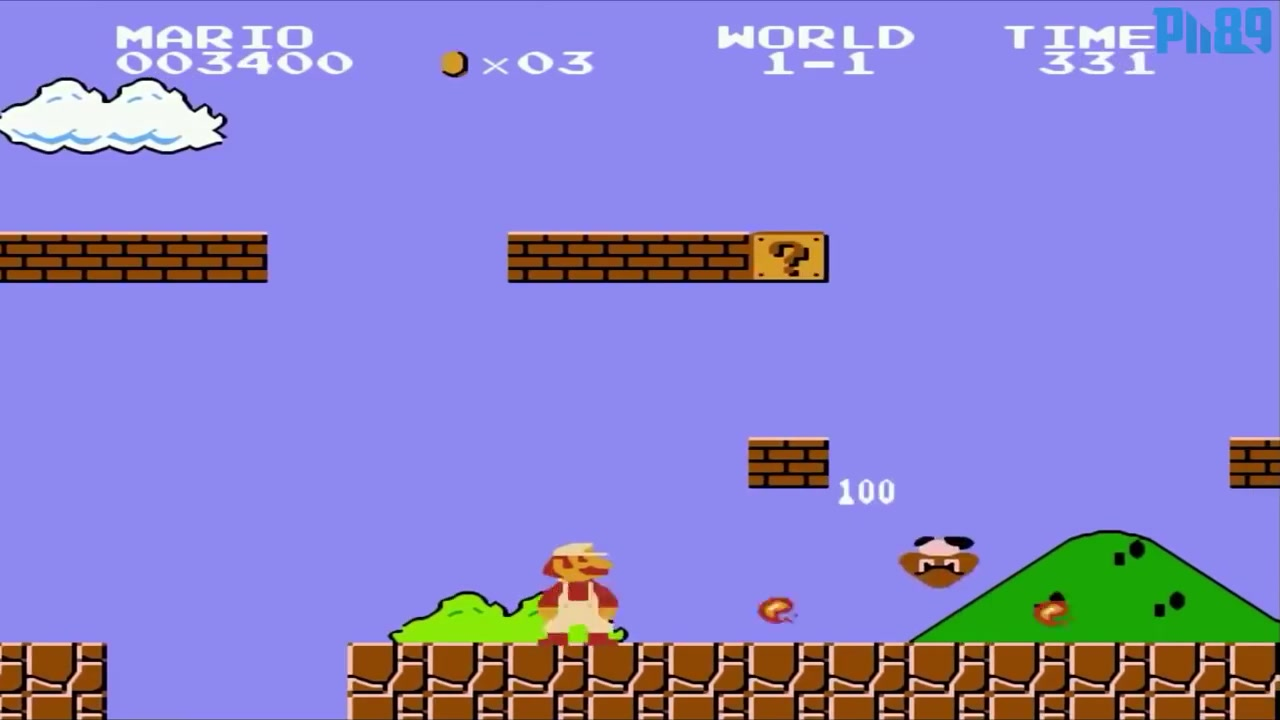mario: (518, 530, 627, 647)
